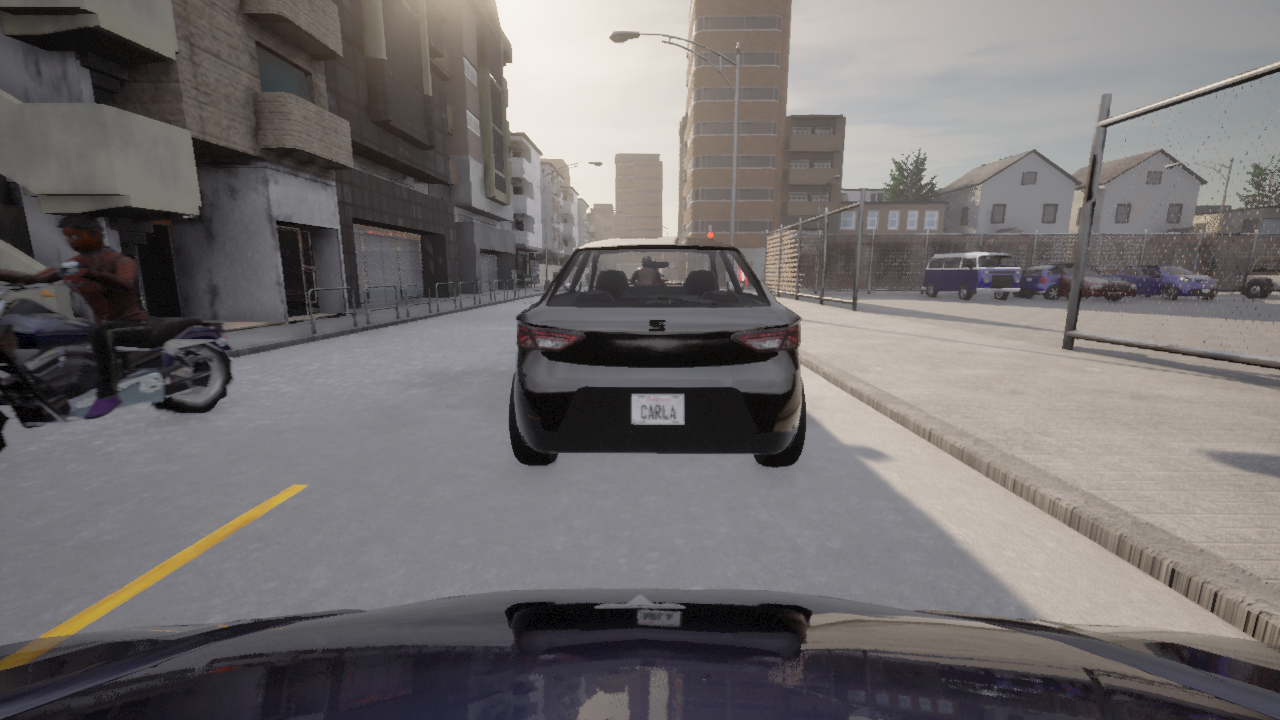cyclist: (0, 588, 1279, 719), (508, 237, 806, 466), (0, 261, 233, 453), (922, 252, 1020, 299), (1018, 263, 1121, 299), (1012, 271, 1138, 300), (1113, 265, 1217, 299), (1239, 256, 1279, 298), (1217, 283, 1218, 286)
pedestrian: (786, 271, 795, 292)
